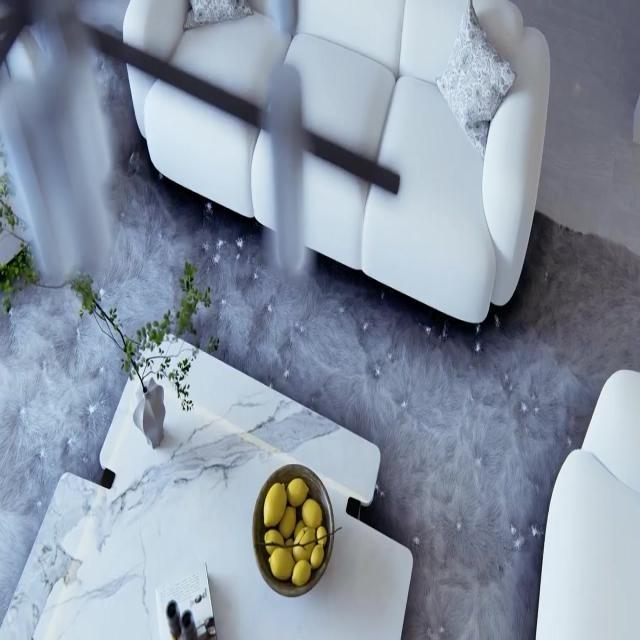obstacle: (122, 0, 551, 327), (1, 332, 413, 638), (534, 367, 640, 638)
